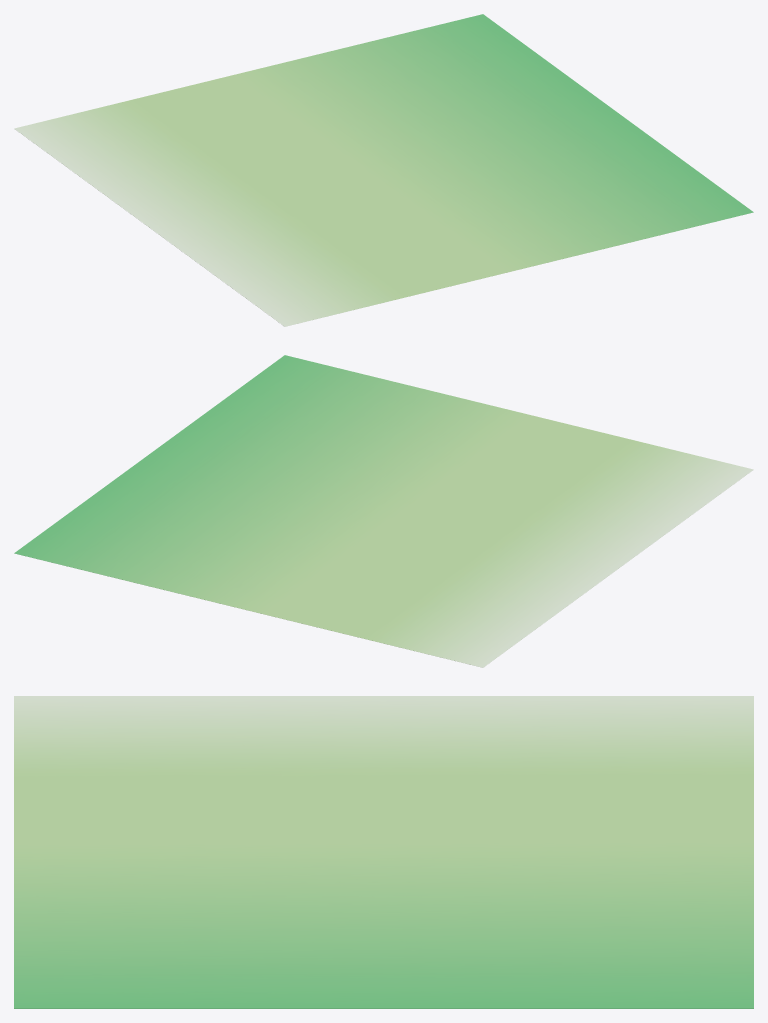
Rendered from Floor.fbx.
3 renders of one model, top to bottom at view 1: azimuth 30°, elevation 25°; view 2: azimuth 150°, elevation 25°; view 3: azimuth 270°, elevation 25°, orthographic. The views are drawn at different scales.
Parts seen in each view (by area): view 1: Floor; view 2: Floor; view 3: Floor.
Boxes of the visible parts, x1=… form: Floor: x1=14, y1=14, x2=753, y2=326; Floor: x1=14, y1=355, x2=753, y2=667; Floor: x1=14, y1=696, x2=753, y2=1008.
Bounding box in the file's own units: 50 × 0.01 × 50.
